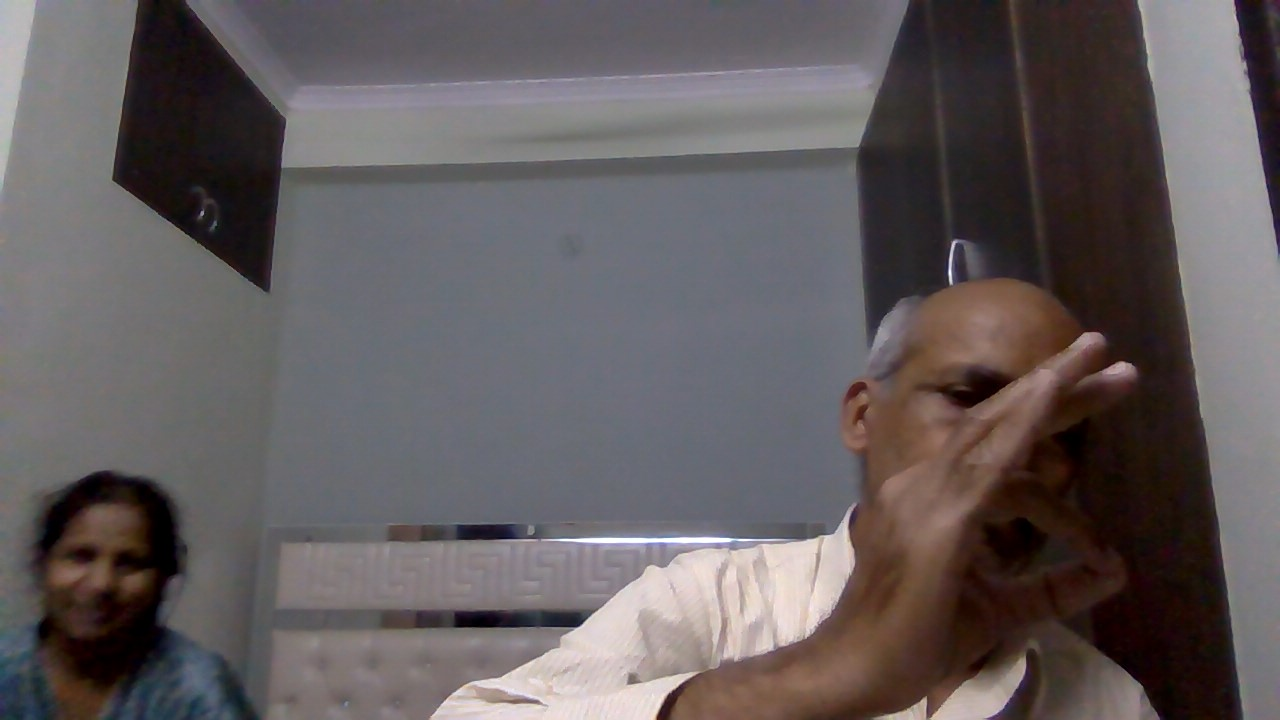Copy: (826, 319, 1148, 706)
